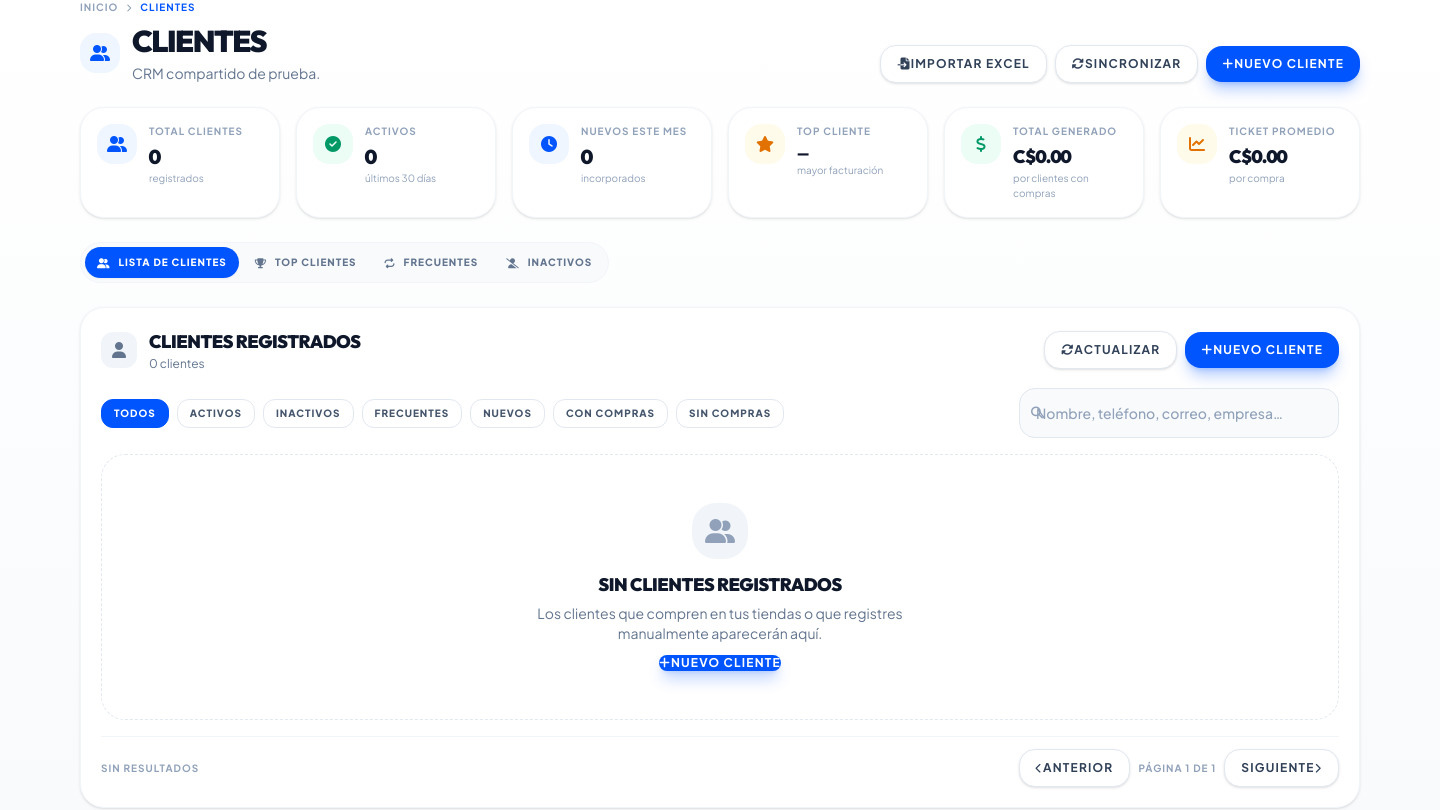
ClientsPageComponent › debe abrir el modal y registrar un cliente
Click the button with test id "clients-new" at (1283, 64), box [1206,46,1360,82]
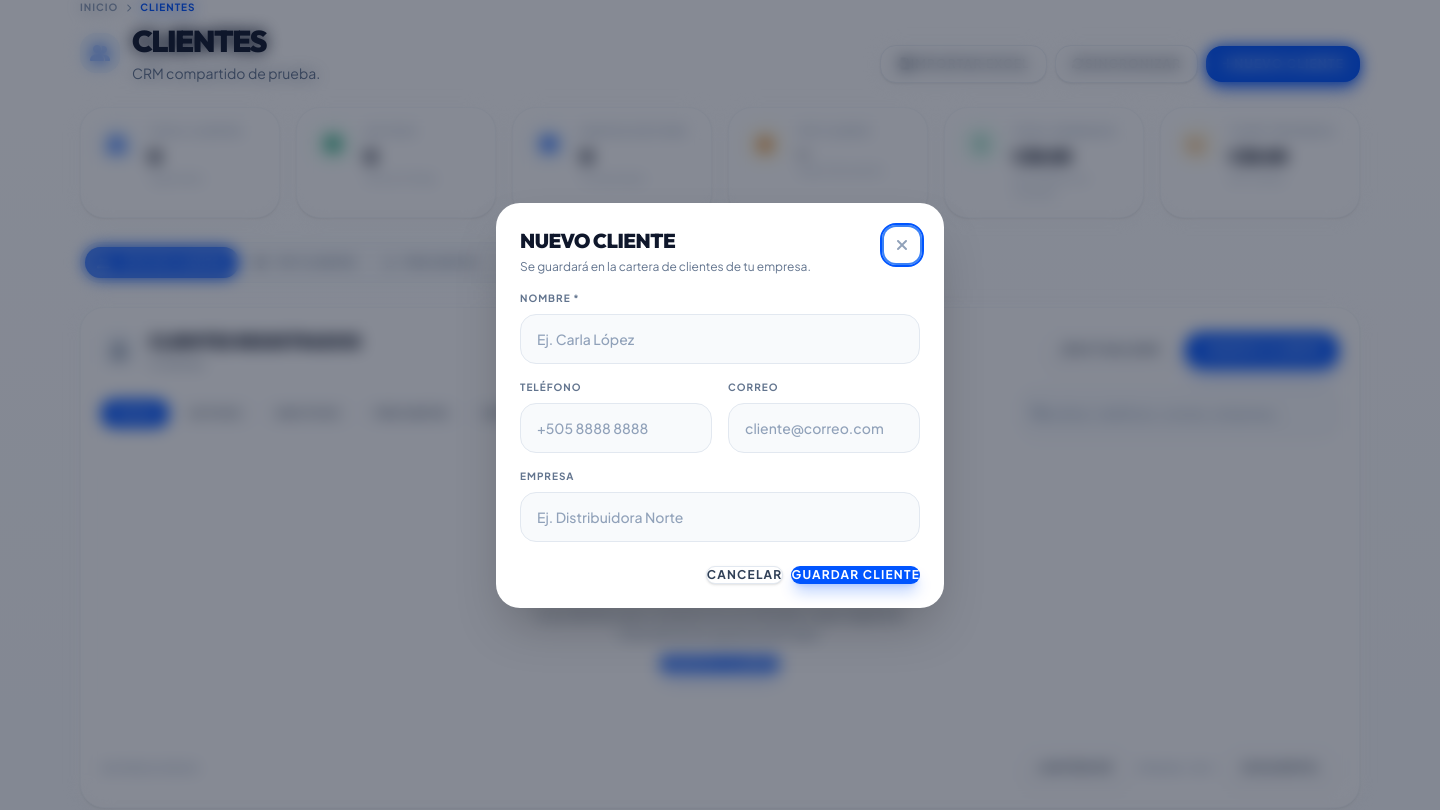
Now the dialog with test id "client-dialog" is shown, box [496,202,944,608]
Type "Pedro Ruiz" into the field labelled "Nombre *" at (720, 338), box [520,314,920,364]
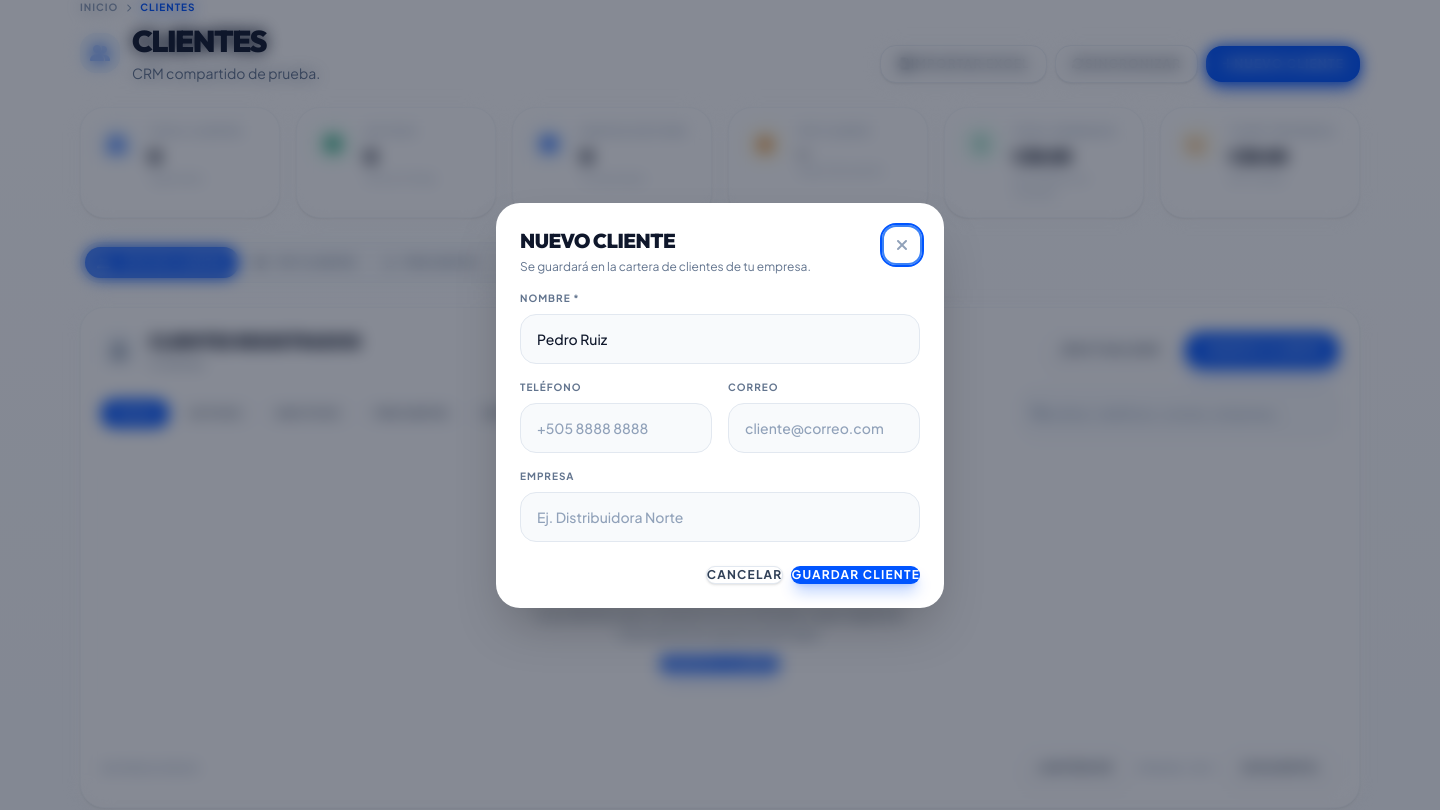
Type "pedro@correo.com" into the field labelled "Correo" at (824, 428), box [728,402,920,452]
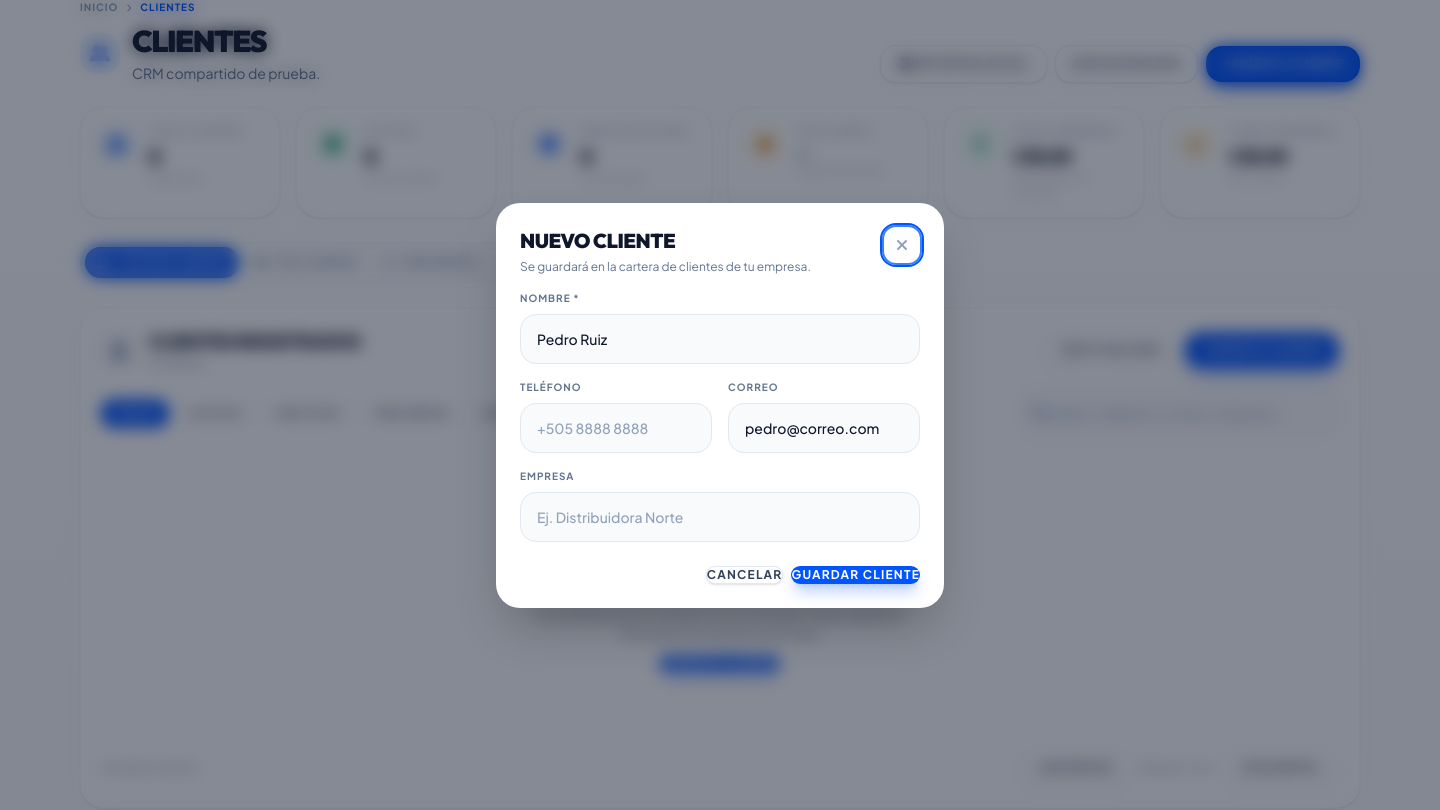
Submit the form, box [520,290,920,584]
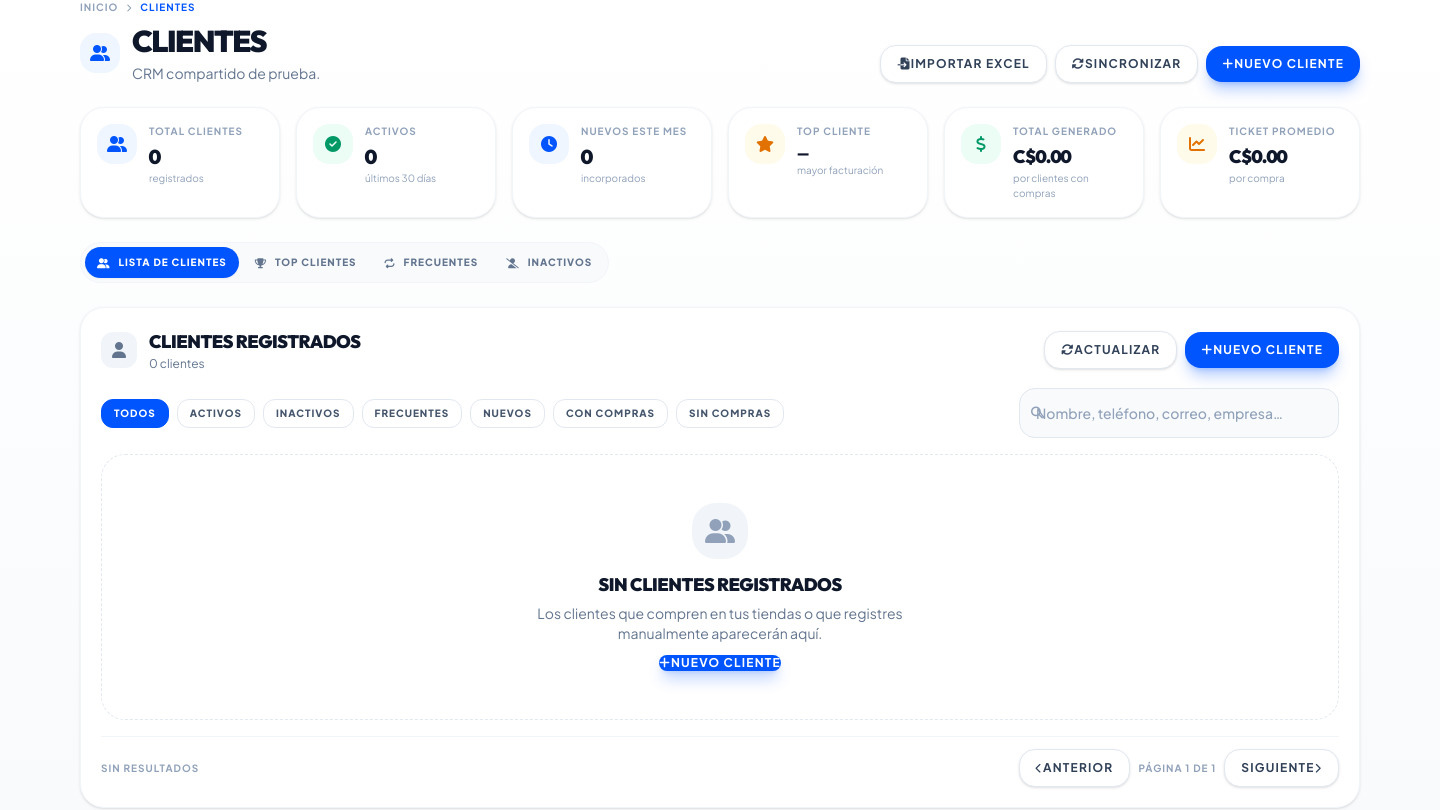
Now the dialog with test id "client-dialog" is gone
